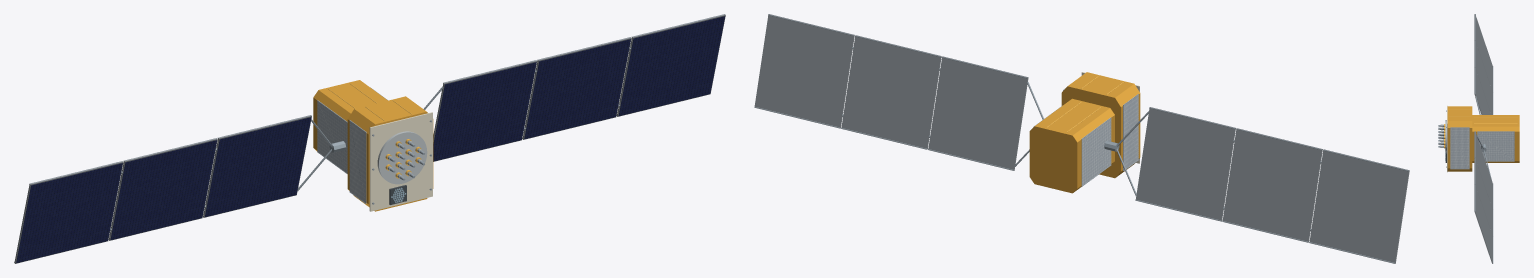
File: beidou-3-cast.glb
3 renders of one model, left to right at view 1: azimuth 30°, elevation 25°; view 2: azimuth 150°, elevation 25°; view 3: azimuth 270°, elevation 25°, orthographic. The views are drawn at different scales.
Parts seen in each view (by area): view 1: Solar cell strings (×6), Solar leaf backsheet (×6), Earth-facing equipment deck, Optical solar reflector tiles (×2), CAST T-shaped payload deck, CAST service module, Navigation antenna ground plane; view 2: Solar leaf backsheet (×6), CAST service module, CAST T-shaped payload deck, Optical solar reflector tiles (×2); view 3: Solar leaf backsheet (×6), Optical solar reflector tiles (×2), CAST service module, CAST T-shaped payload deck, Earth-facing equipment deck, Navigation antenna ground plane.
Boxes of the visible parts, x1,y1,x2,y2 form: Solar cell strings (×6): (16,16,725,263); Solar leaf backsheet (×6): (14,14,725,263); Earth-facing equipment deck: (369,112,432,211); Optical solar reflector tiles (×2): (317,100,366,203); CAST T-shaped payload deck: (347,96,433,211); CAST service module: (313,80,387,151); Navigation antenna ground plane: (377,131,427,184); Solar leaf backsheet (×6): (754,14,1409,263); CAST service module: (1029,98,1114,193); CAST T-shaped payload deck: (1061,72,1140,178); Optical solar reflector tiles (×2): (1081,94,1138,186); Solar leaf backsheet (×6): (1474,14,1492,263); Optical solar reflector tiles (×2): (1450,127,1514,168); CAST service module: (1472,115,1519,162); CAST T-shaped payload deck: (1447,106,1472,171); Earth-facing equipment deck: (1447,105,1447,172); Navigation antenna ground plane: (1445,120,1446,152).
Size of the model in its own units: 14 by 1.75 by 2.44.
10 materials, 2 textured.
